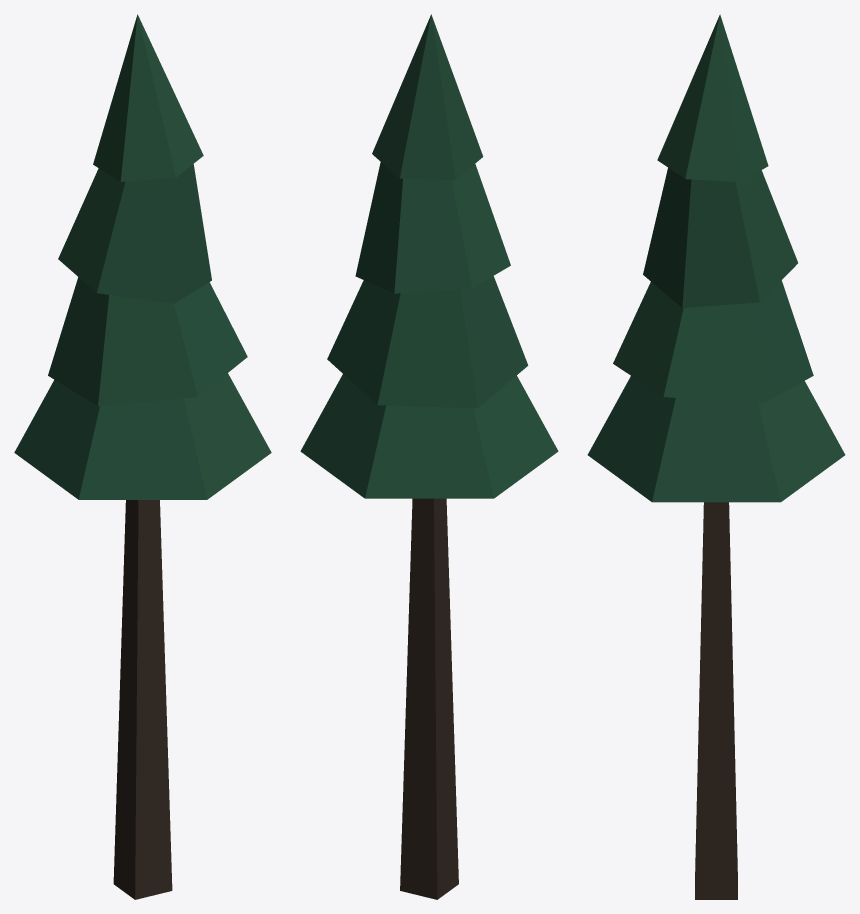
File: rn_pine_giant_b.glb
3 views of the same model, side by side, from view 1: azimuth 30°, elevation 25°; view 2: azimuth 150°, elevation 25°; view 3: azimuth 270°, elevation 25° (orthographic).
Parts seen in each view (by area): view 1: rn_pine_giant_b; view 2: rn_pine_giant_b; view 3: rn_pine_giant_b.
Boxes of the visible parts, left/top/right/bottom form: rn_pine_giant_b: left=14, top=14, right=271, bottom=899; rn_pine_giant_b: left=300, top=14, right=558, bottom=899; rn_pine_giant_b: left=587, top=14, right=845, bottom=899.
Size of the model in its own units: 3.01 by 13 by 3.47.
